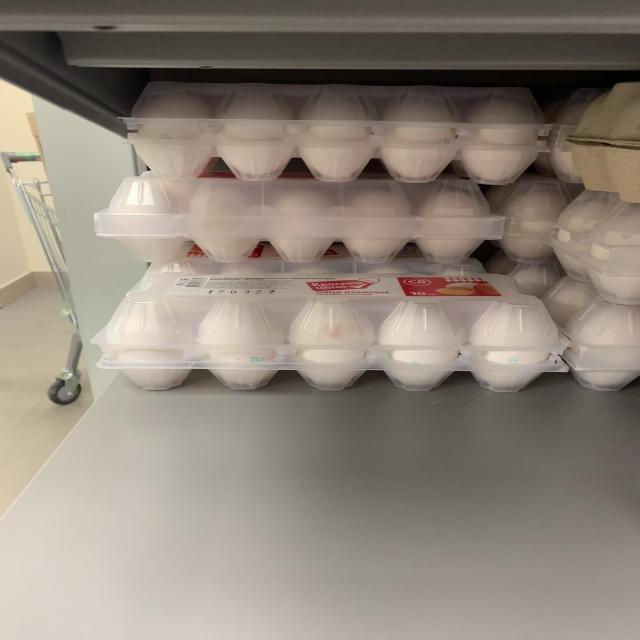egg box: (101, 255, 559, 396)
